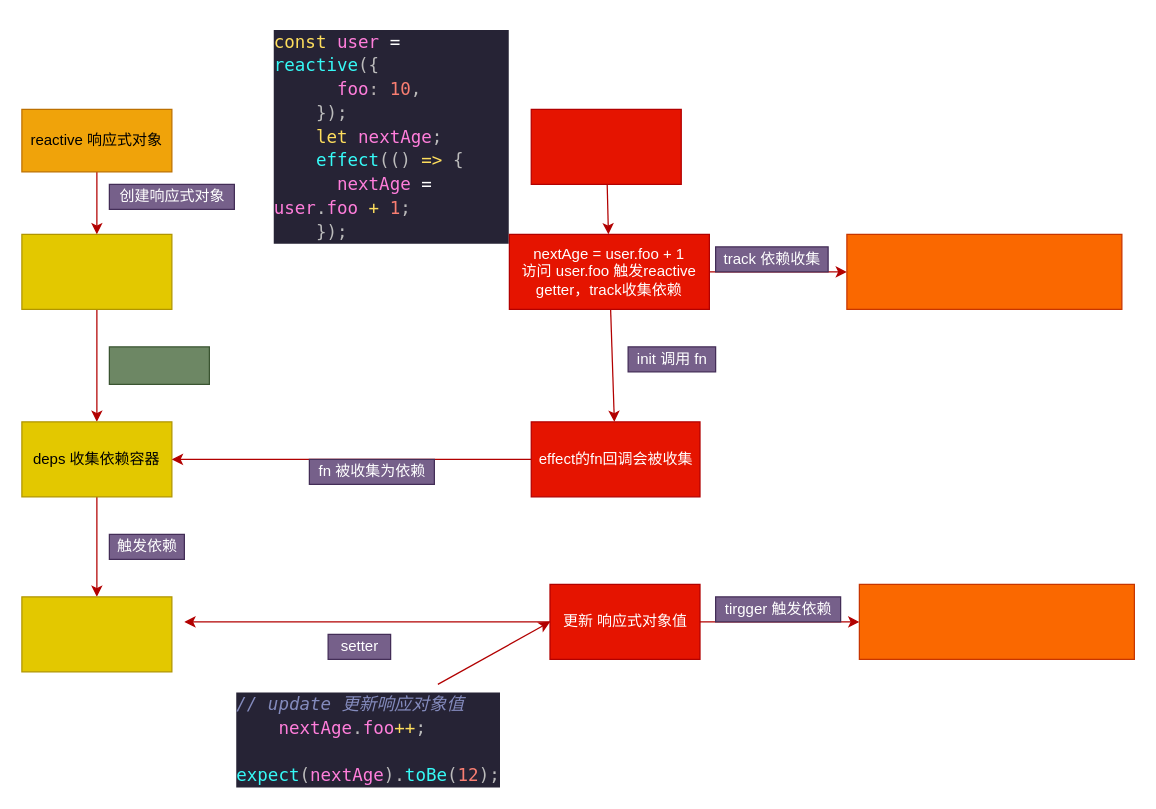
Image size: 1156x809. Some labels were removed from this diagram. The box of each missing label's shape, as (x1, y1, x2, y2) in pixels:
effect: (530, 108, 681, 184)
getter 时，依赖收集: (846, 233, 1122, 309)
setter 时，触发依赖，调用容器收集的依赖fn.call(): (858, 583, 1134, 659)
user: (21, 233, 172, 309)
依赖收集容器: (108, 346, 209, 384)
触发 fn.call() 回调 释放依赖: (21, 596, 172, 672)
